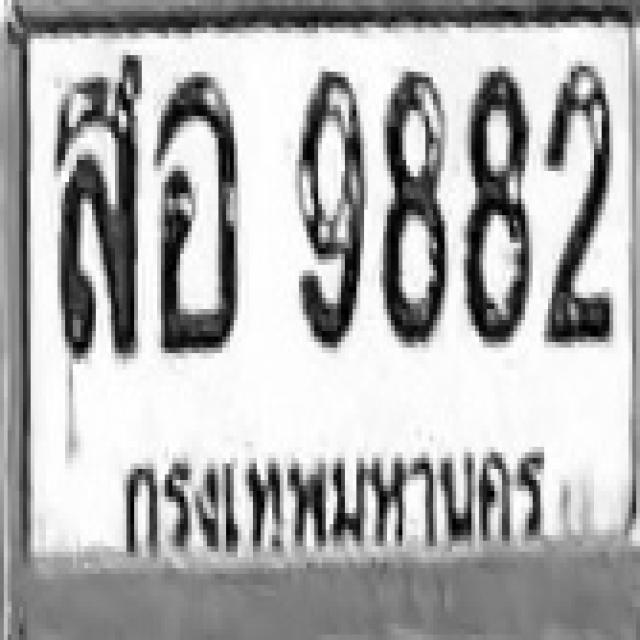2: (540, 61, 614, 342)
49SorSuea: (54, 49, 142, 358)
52OrAng: (153, 69, 238, 350)
8: (462, 66, 531, 342), (380, 66, 444, 342)
9: (295, 66, 364, 348)
Bangkok: (111, 435, 555, 568)
